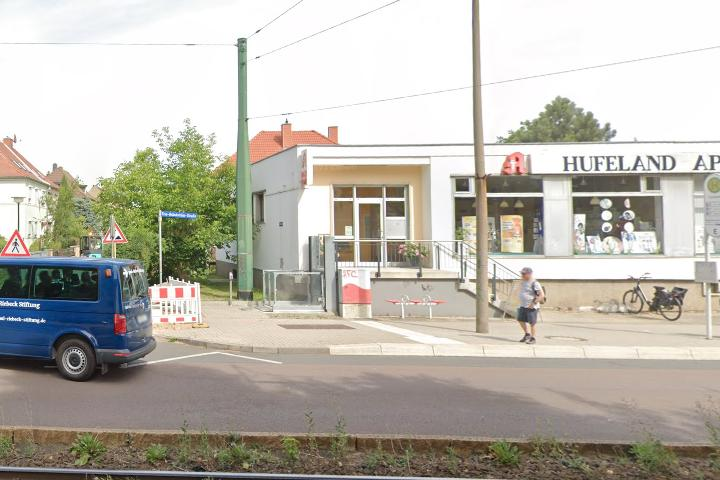traffic_sign: (1, 229, 31, 258), (100, 219, 128, 244)
vehicle: (1, 257, 160, 382)
